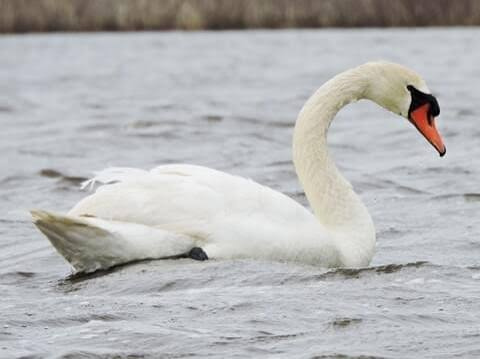swan: (28, 61, 449, 276)
